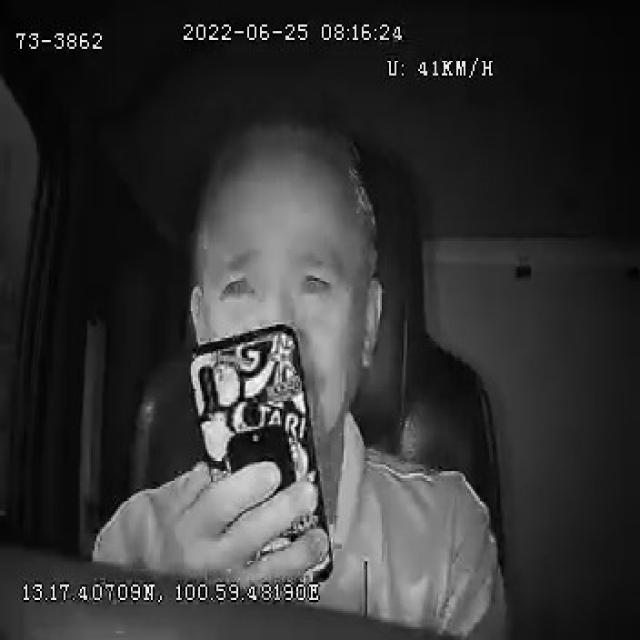phone: (188, 321, 332, 580)
